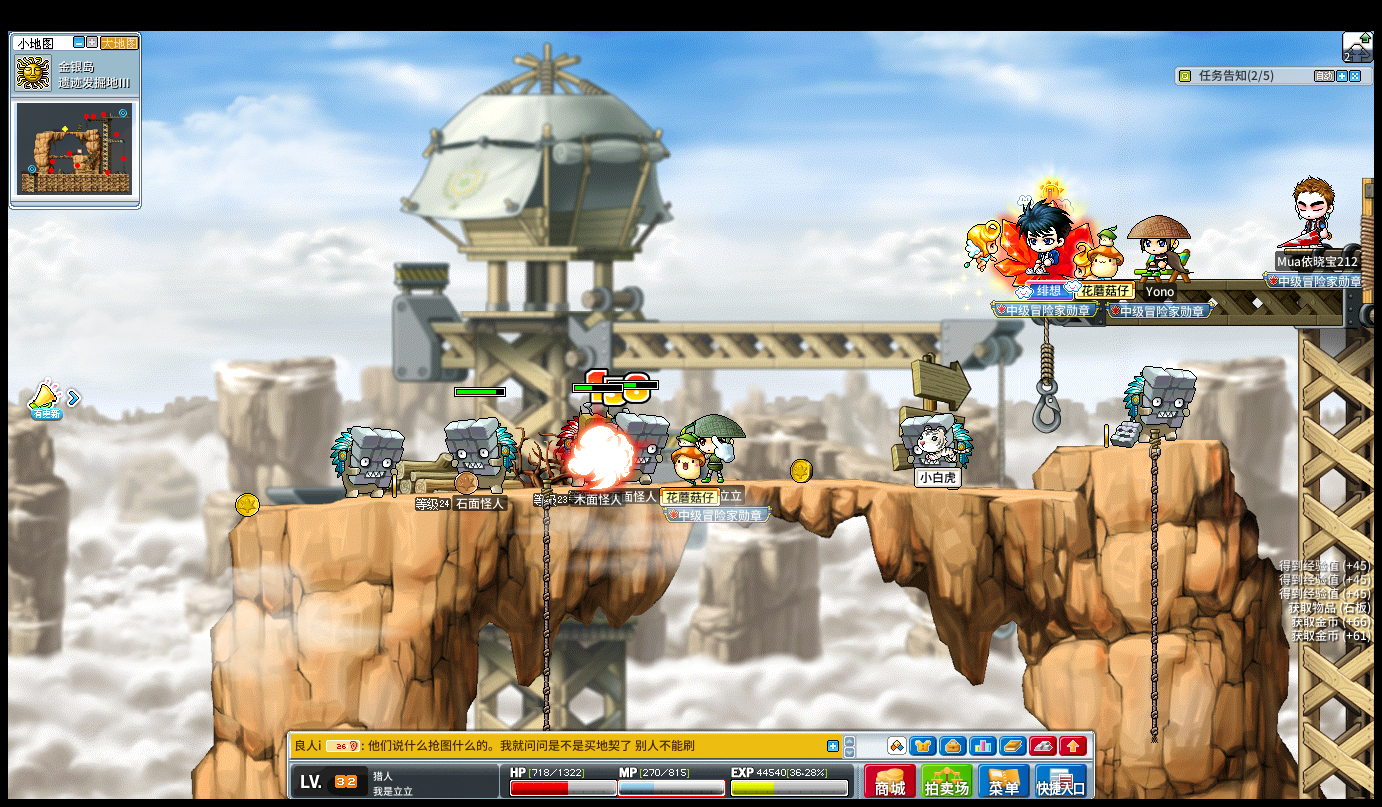floor: (212, 476, 1123, 496), (1058, 435, 1225, 451)
monster: (899, 413, 973, 490), (1124, 365, 1197, 443), (328, 425, 403, 500), (445, 417, 517, 490), (618, 410, 670, 472)
rope: (1145, 426, 1161, 747), (538, 480, 551, 686)
